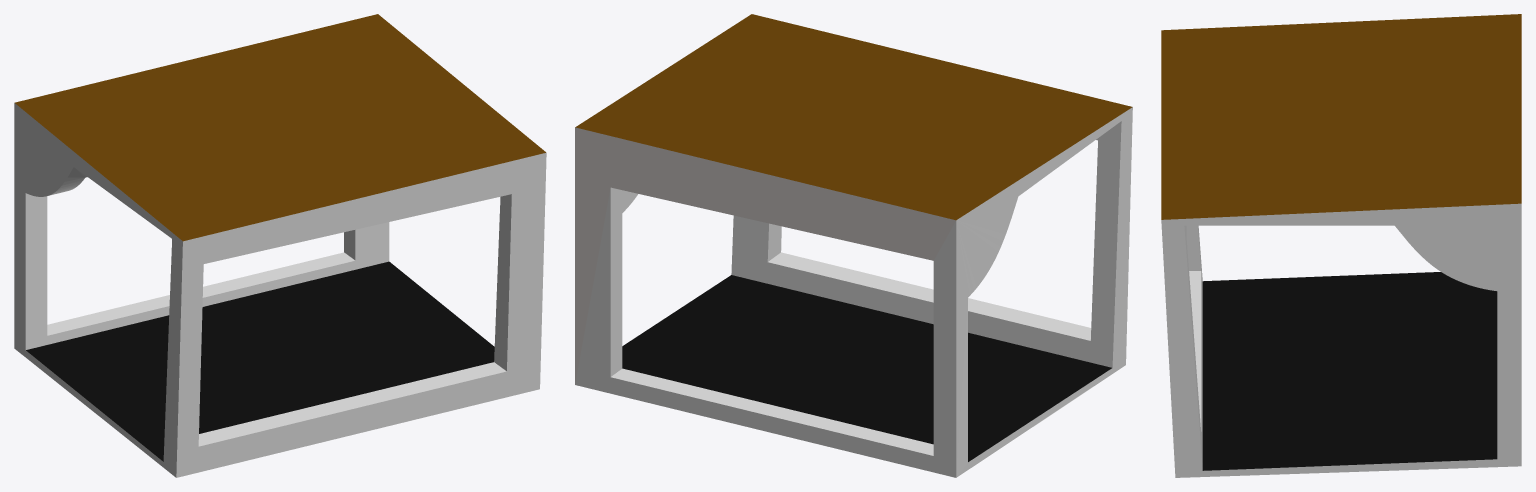
The model's file is blender_colored_box.dae.
3 renders of one model, left to right at view 1: azimuth 30°, elevation 25°; view 2: azimuth 150°, elevation 25°; view 3: azimuth 270°, elevation 25°, orthographic. The views are drawn at different scales.
Parts seen in each view (by area): view 1: node0; view 2: node0; view 3: node0.
Part boxes in pixels (x1,y1,x2,y2): node0: (14, 14, 546, 477); node0: (575, 14, 1132, 477); node0: (1161, 14, 1521, 477).
Size of the model in its own units: 0.325 by 0.261 by 0.2192.
